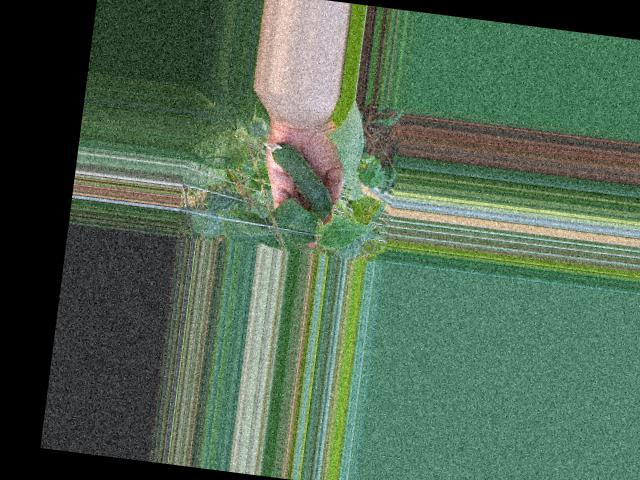cucumber: (254, 139, 338, 215)
